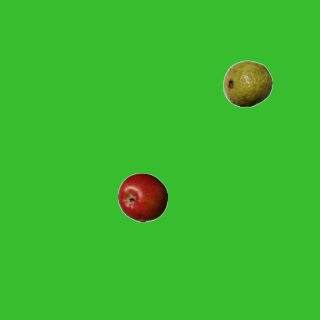Apple Braeburn: (117, 172, 167, 222)
Guava: (222, 58, 272, 108)
